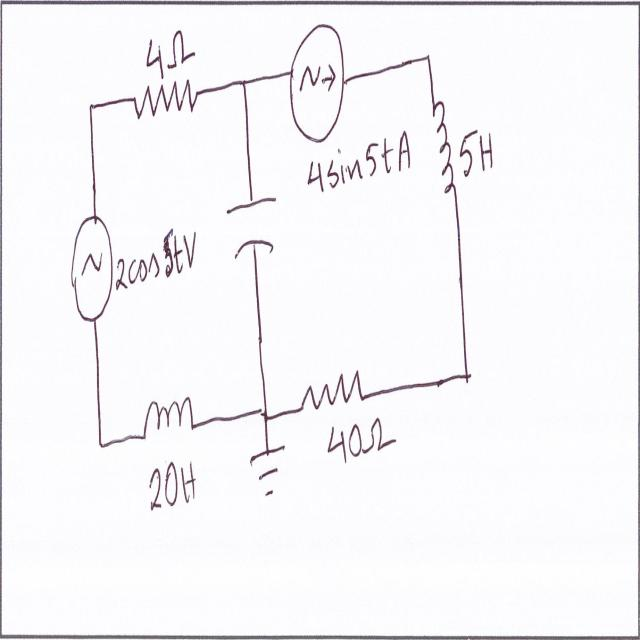ac_current: (69, 204, 114, 330)
capacitor: (226, 191, 280, 265)
current_source: (283, 16, 353, 152)
ground: (246, 435, 287, 507)
inductor: (144, 388, 193, 453), (431, 82, 456, 202)
resistor: (297, 367, 370, 422), (132, 74, 200, 128)
